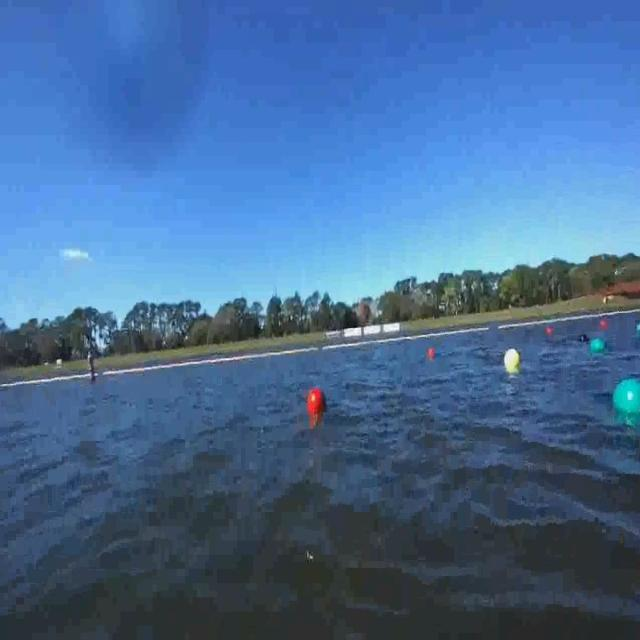black-buoy: (579, 334, 587, 342)
green-buoy: (613, 380, 640, 416), (588, 340, 602, 355)
red-buoy: (307, 391, 326, 417), (600, 320, 607, 329), (545, 326, 552, 334)
yellow-buoy: (503, 349, 520, 369)
